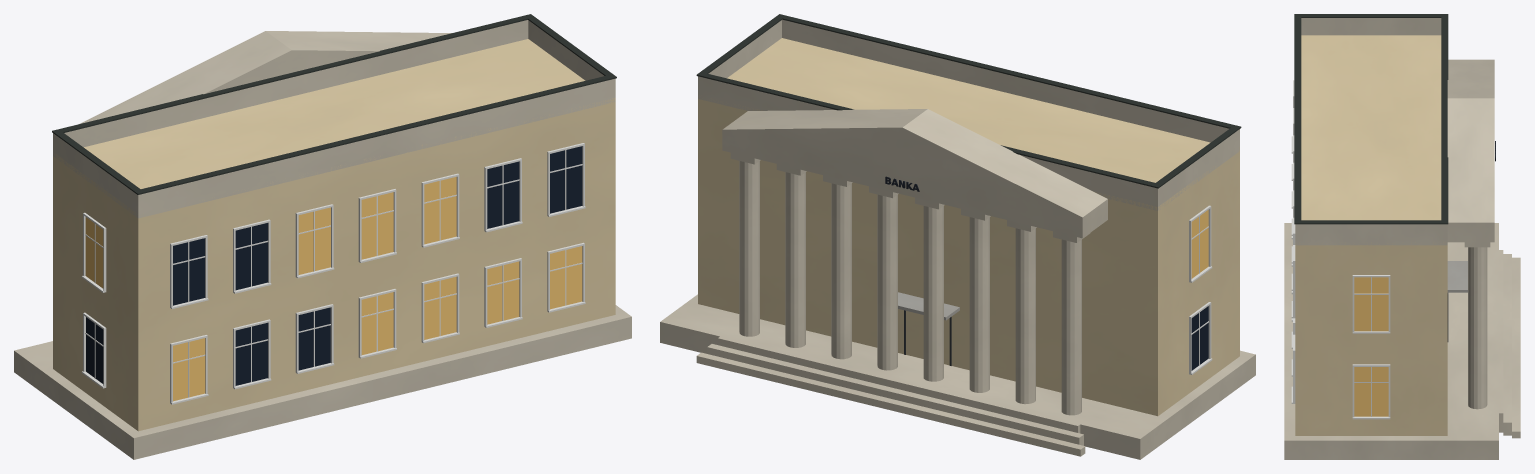
Rendered from pv_banka.glb.
3 views of the same model, side by side, from view 1: azimuth 30°, elevation 25°; view 2: azimuth 150°, elevation 25°; view 3: azimuth 270°, elevation 25° (orthographic). The views are drawn at different scales.
Visible parts, largest first — view 1: dum, noc; view 2: dum, noc; view 3: dum, noc.
Part boxes in pixels (<box>): dum: <box>14,14,631,459</box>; noc: <box>85,177,582,401</box>; dum: <box>660,14,1255,459</box>; noc: <box>1191,210,1208,278</box>; dum: <box>1284,14,1520,459</box>; noc: <box>1354,277,1388,416</box>.
Size of the model in its own units: 23.94 by 12.97 by 10.97.
1 material, 1 textured.
